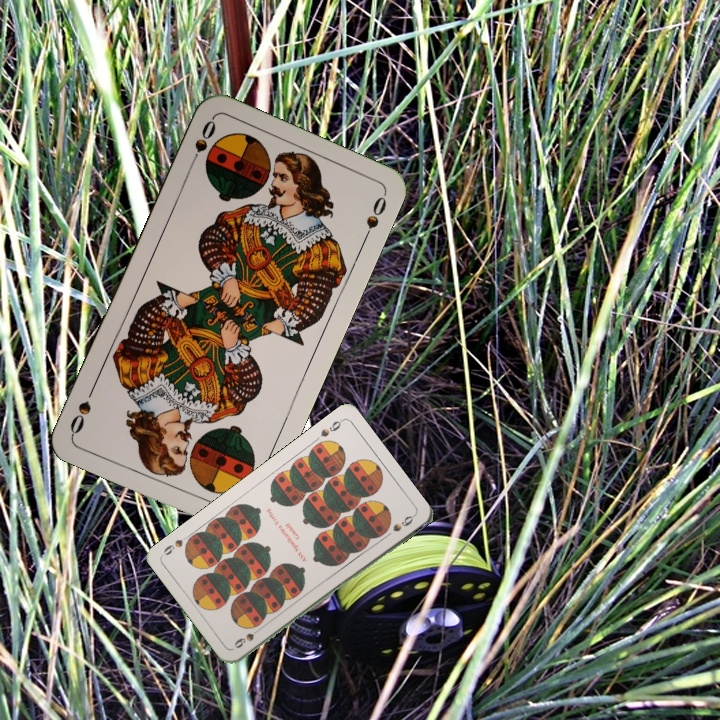S9: (230, 623, 265, 651), (317, 415, 345, 440)
SO: (184, 116, 219, 171)
